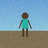person: (19, 13, 31, 37)
